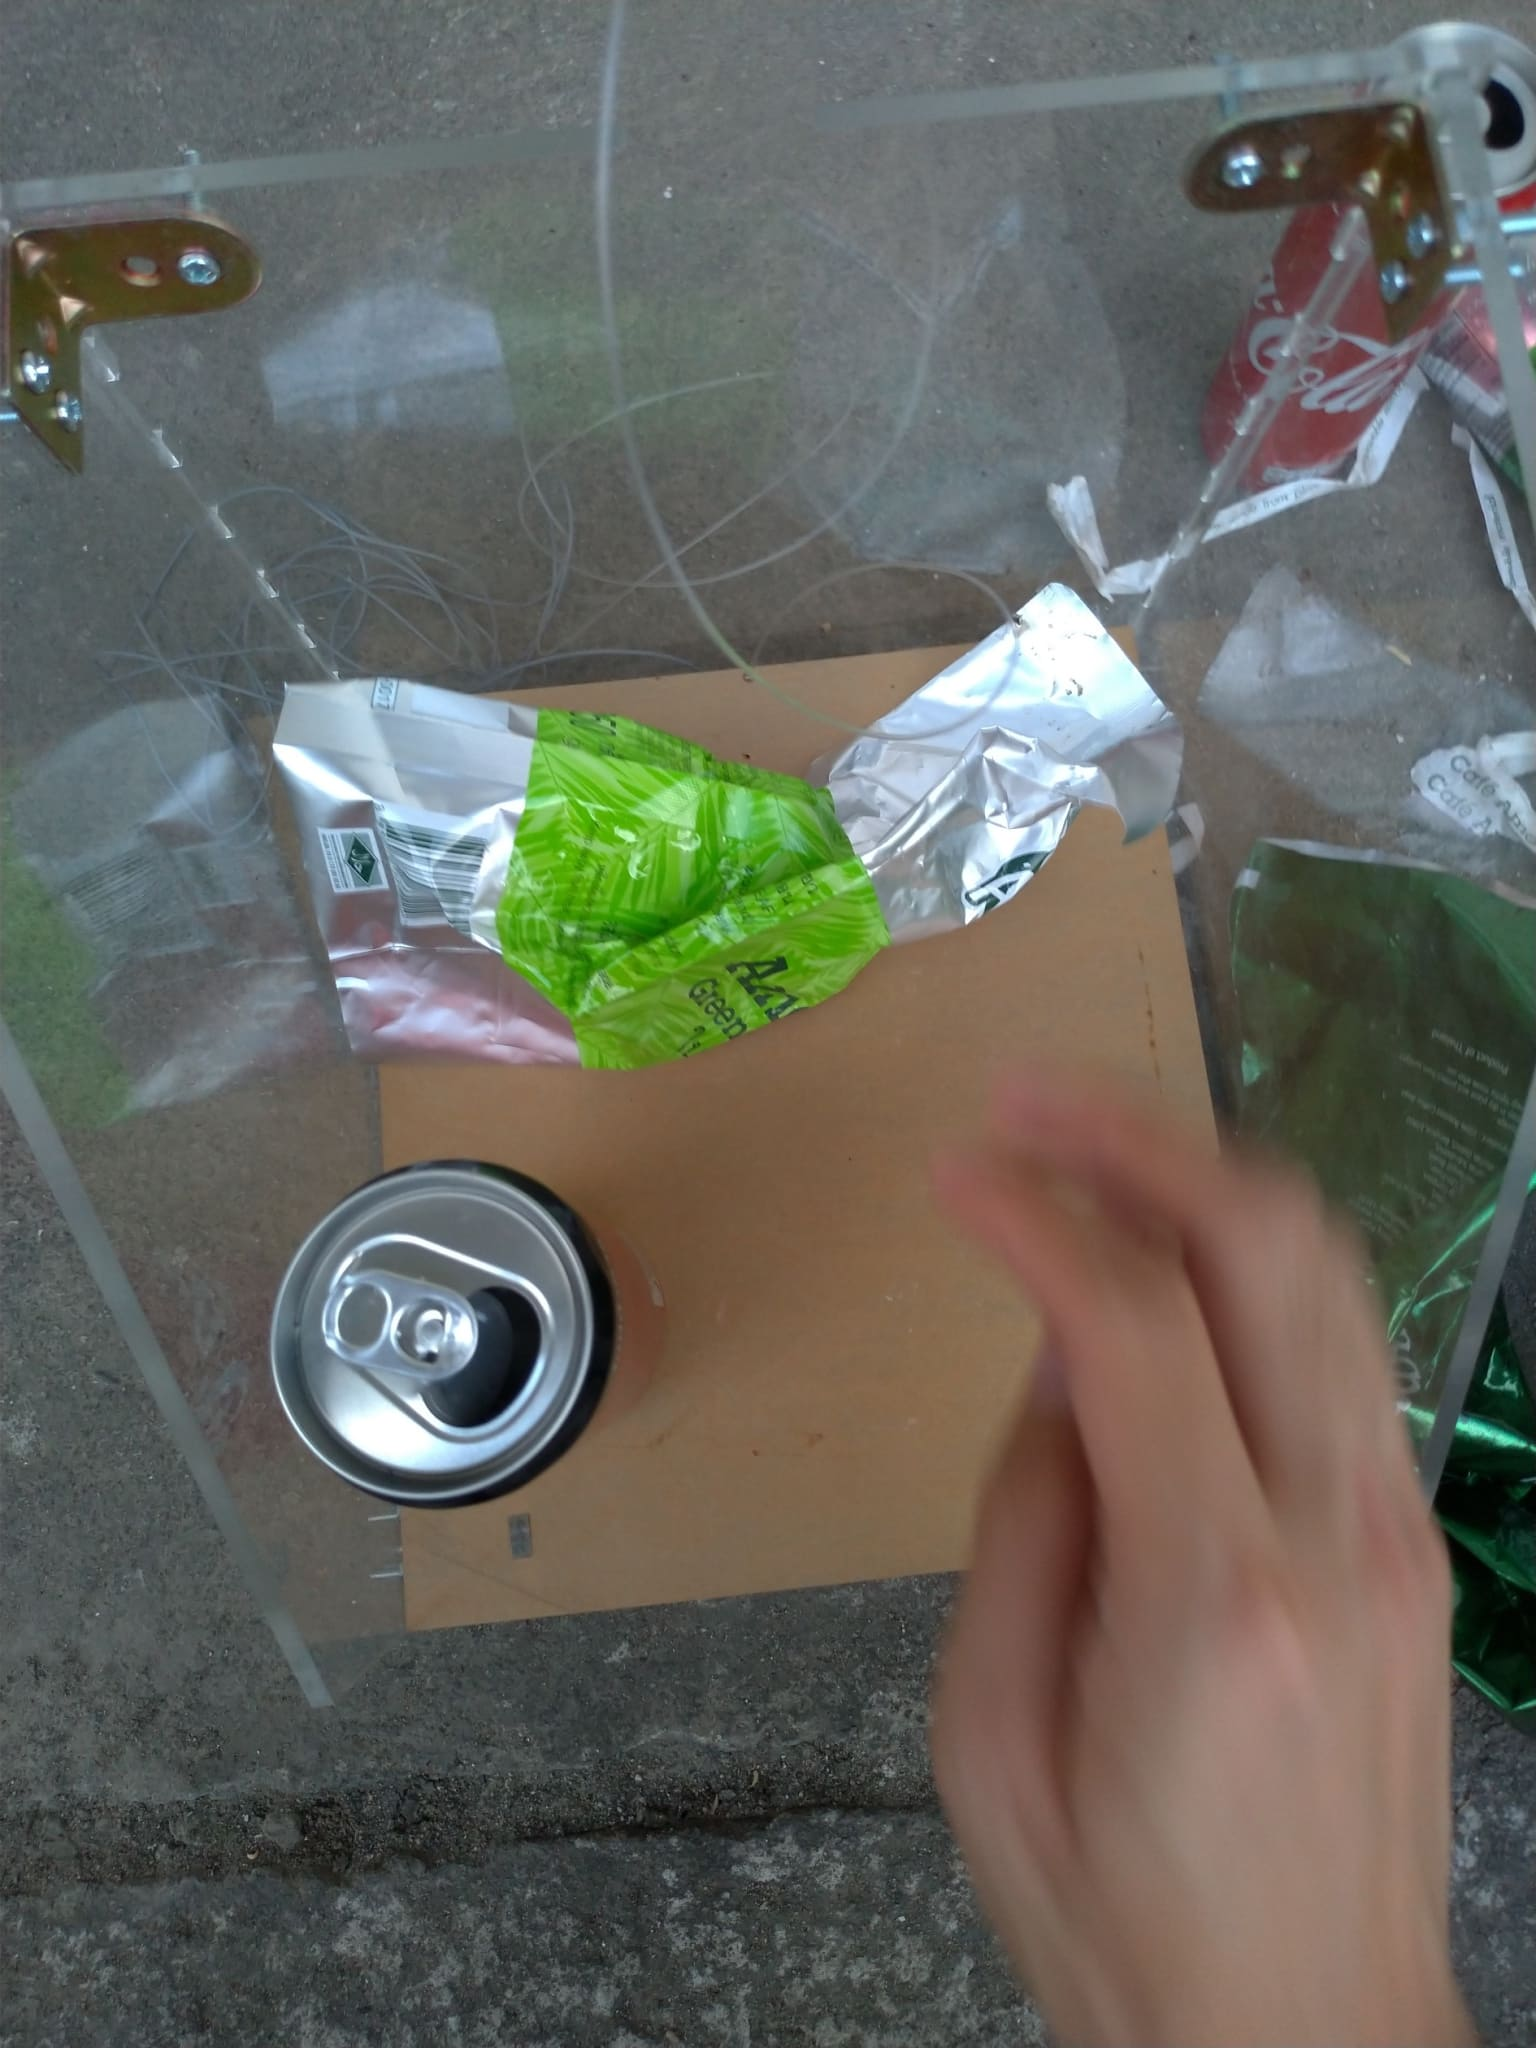AlCan: (1213, 31, 1533, 484), (263, 1168, 666, 1511)
Others: (269, 584, 1183, 1068), (1213, 835, 1536, 1727), (1044, 373, 1433, 598), (1434, 431, 1536, 835)
